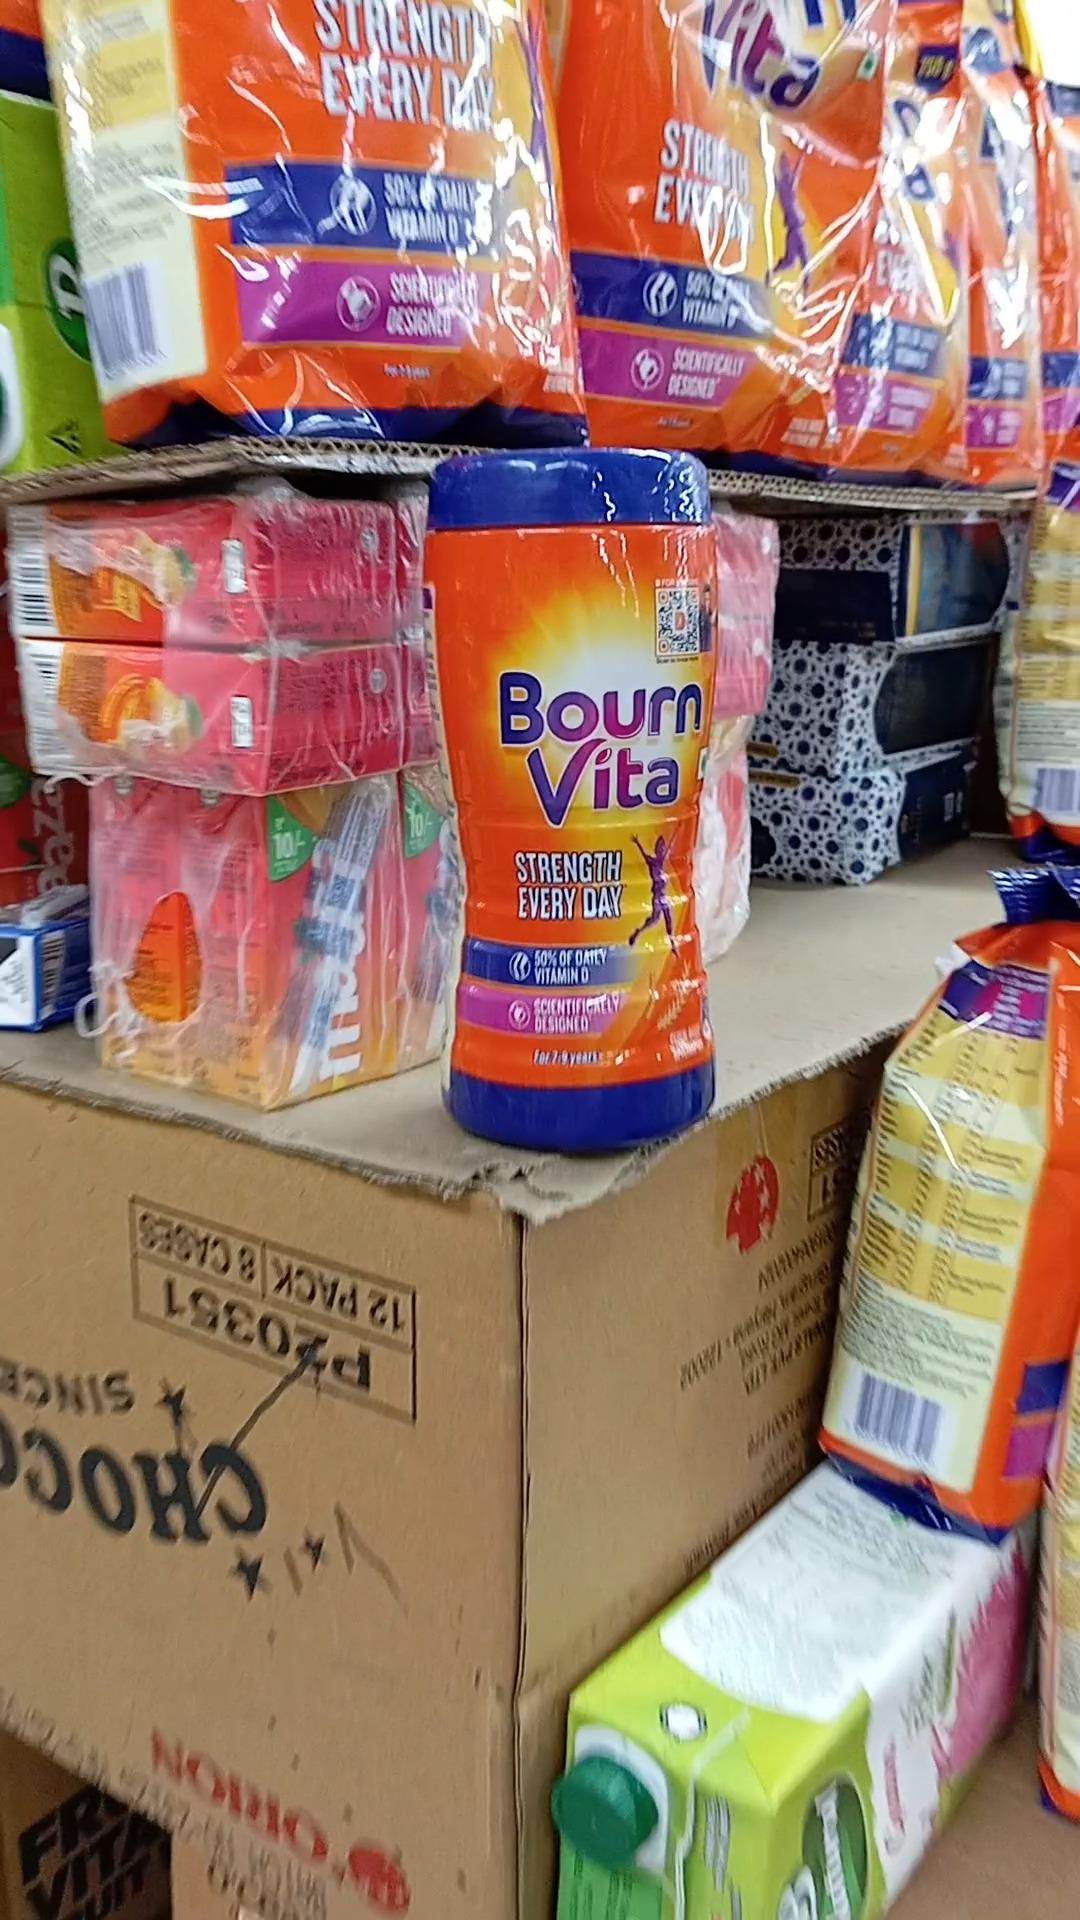BOURN_VITA_200_G_JAR: (427, 433, 727, 1146)
